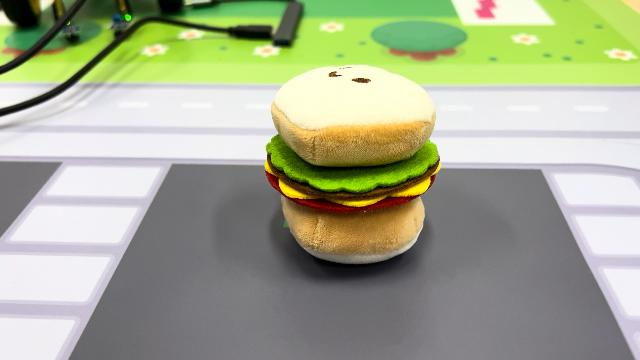sandwich: (261, 62, 443, 266)
